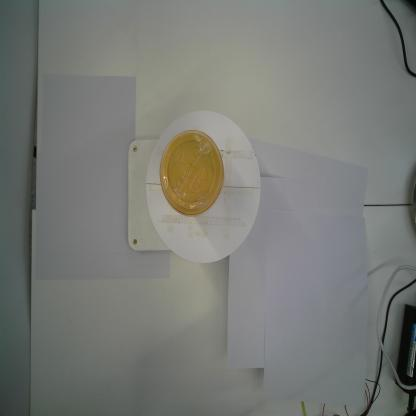Instant Drink: (159, 129, 224, 218)
